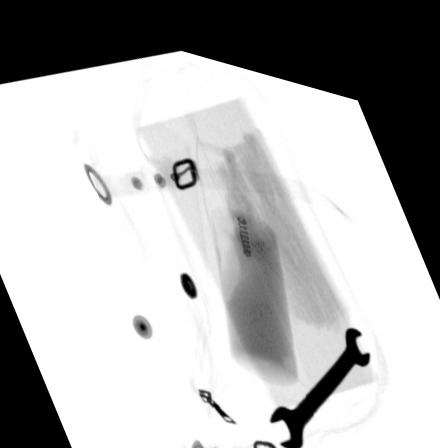Wrench: (267, 305, 371, 435)
